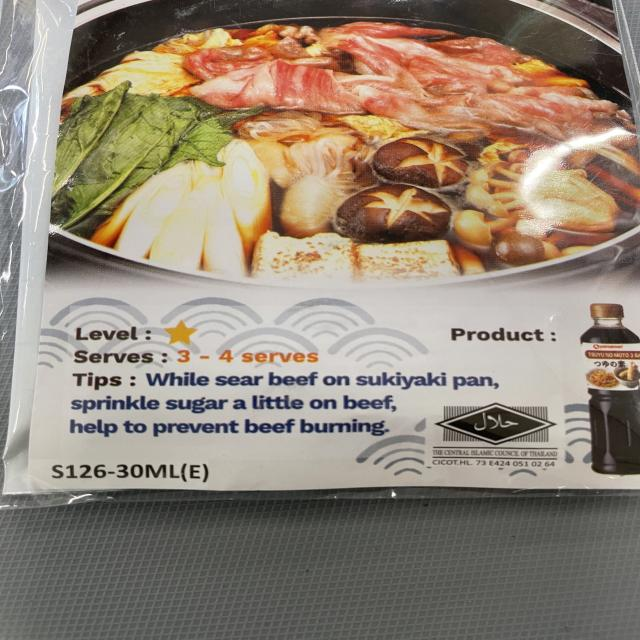object_name: (21, 18, 640, 483)
